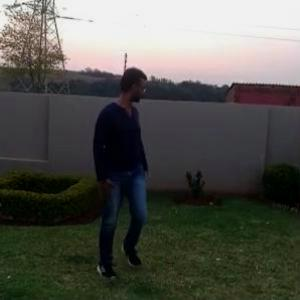follow: (89, 63, 149, 279)
